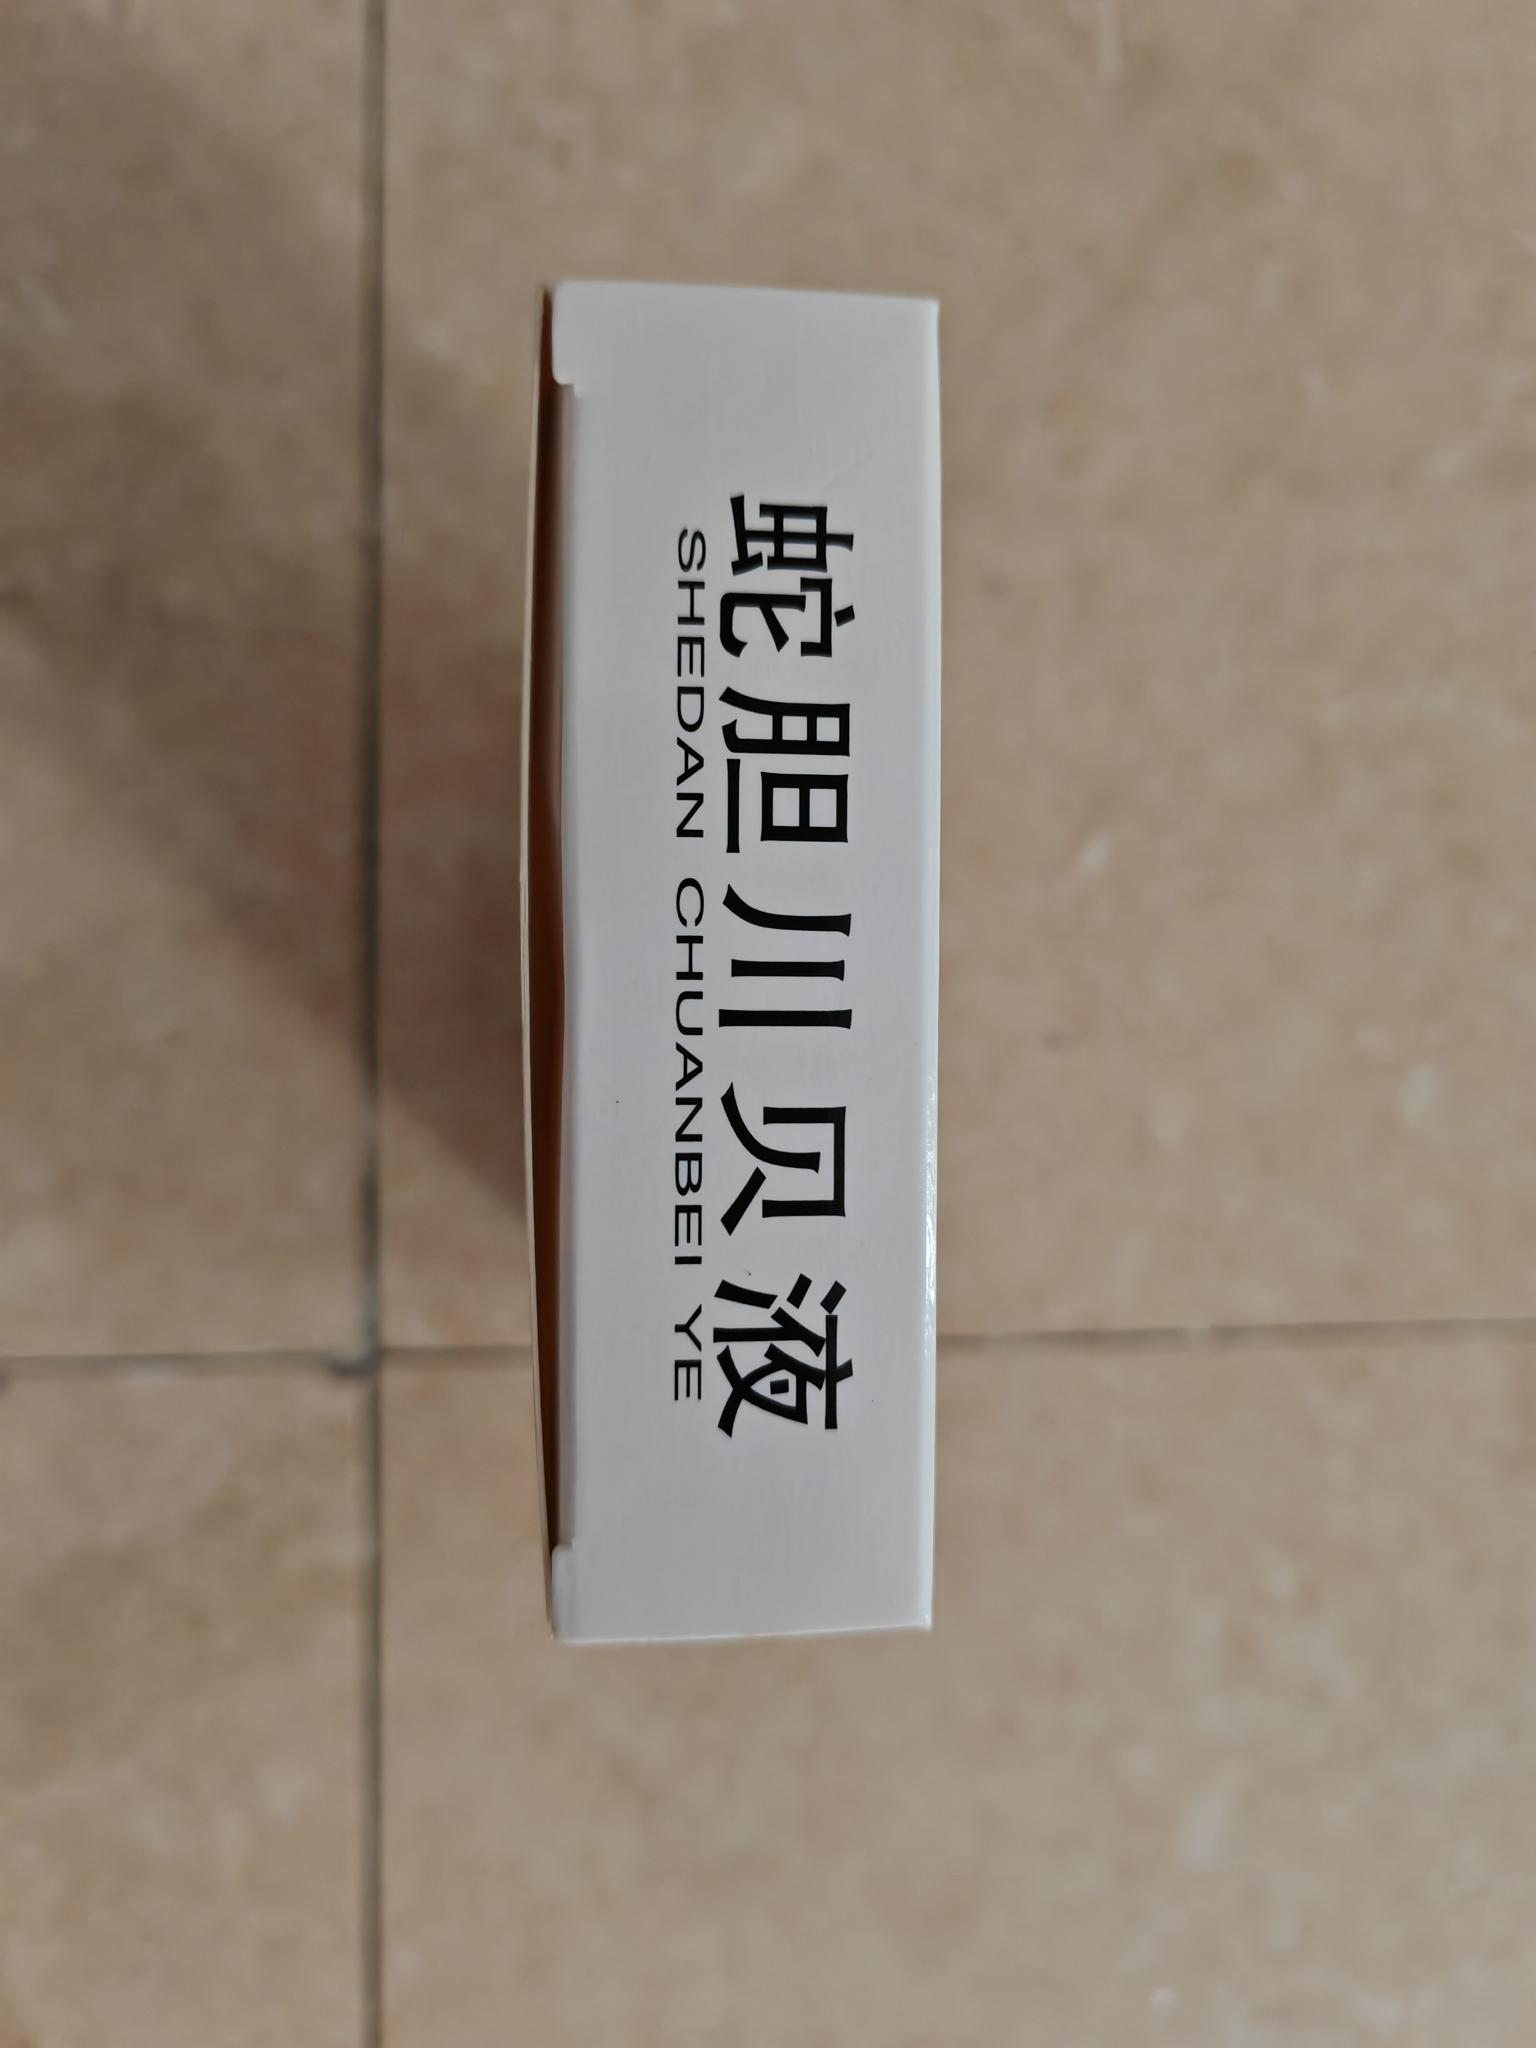Medicine5: (505, 252, 966, 1672)
